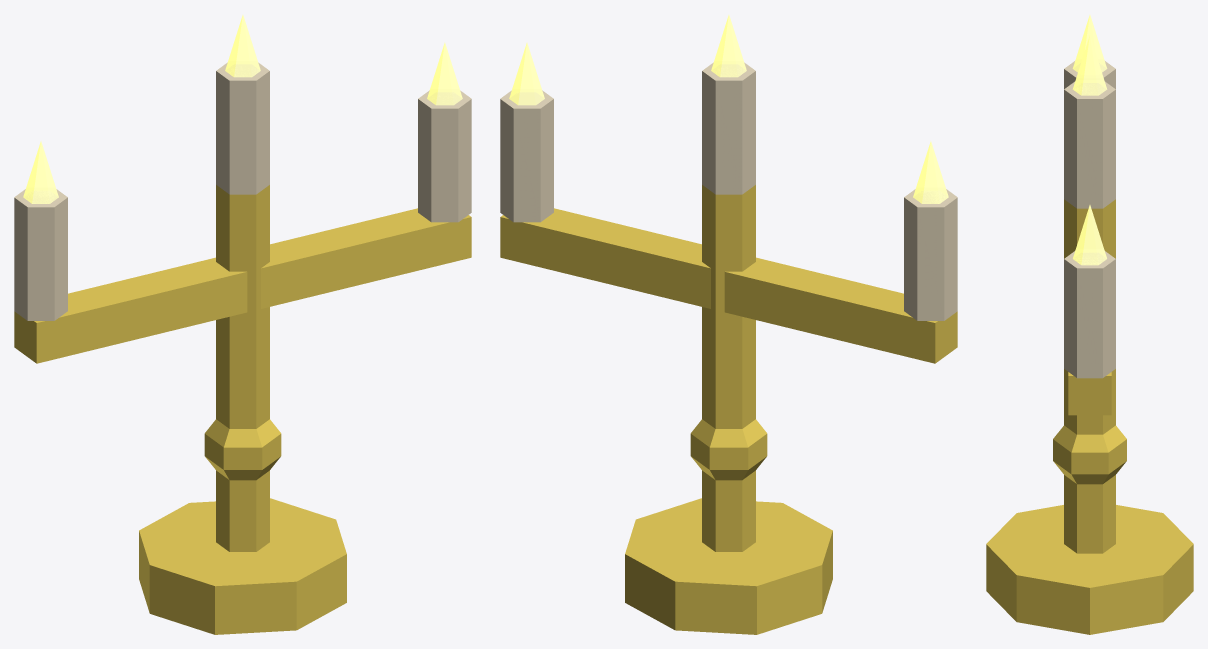
Rendered from std_candelabra.glb.
3 views of the same model, side by side, from view 1: azimuth 30°, elevation 25°; view 2: azimuth 150°, elevation 25°; view 3: azimuth 270°, elevation 25° (orthographic). The views are drawn at different scales.
Visible parts, largest first — view 1: std_candelabra; view 2: std_candelabra; view 3: std_candelabra.
Part boxes in pixels (x1,y1,x2,y2): std_candelabra: (14, 15, 471, 634); std_candelabra: (500, 15, 957, 634); std_candelabra: (986, 15, 1193, 634).
Bounding box in the file's own units: 0.282 × 0.35 × 0.1183.
